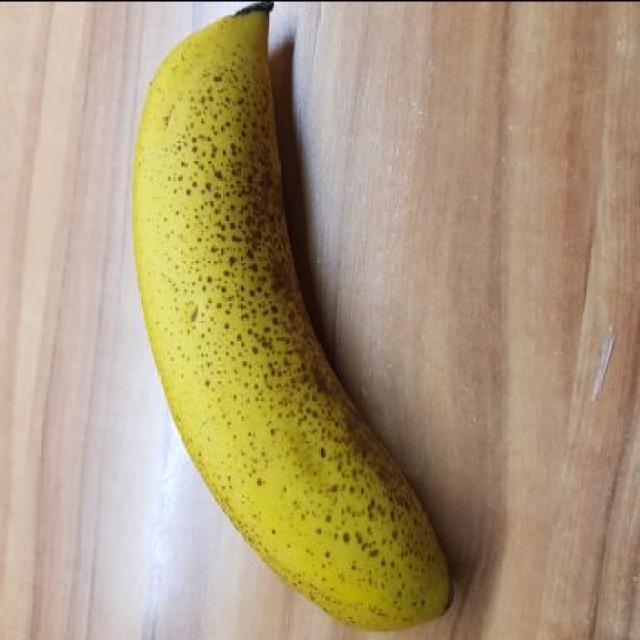Banana: (134, 0, 452, 625)
